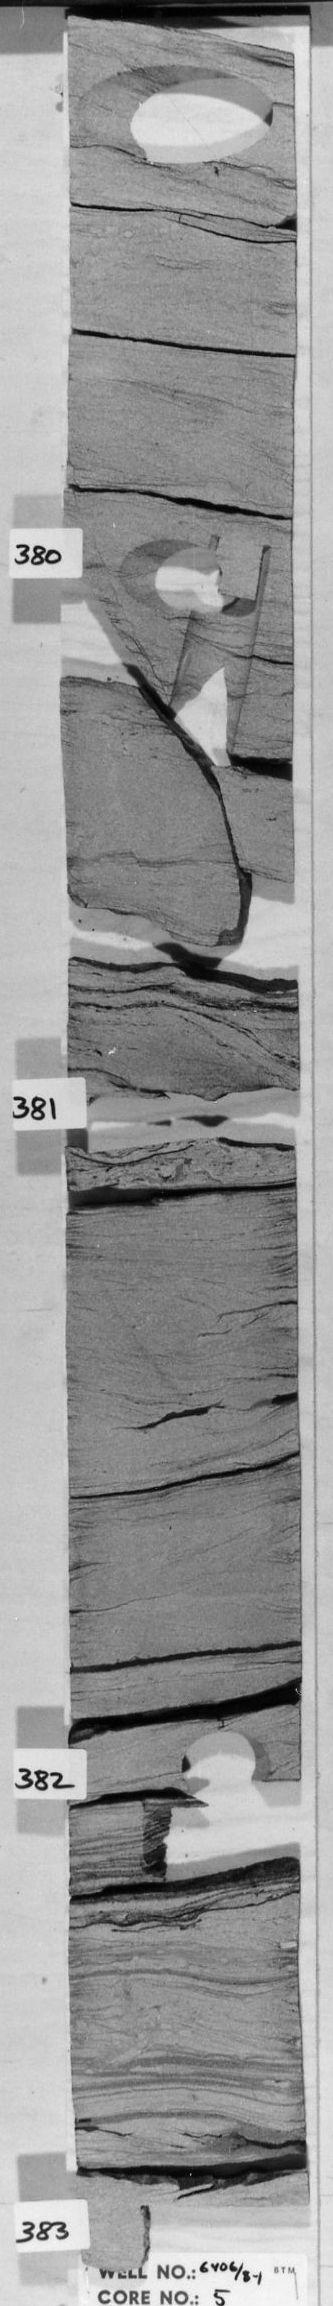hplug: (112, 535, 225, 610), (178, 1728, 276, 1784)
scal: (74, 62, 283, 169)
vplug: (174, 535, 270, 754), (144, 1791, 214, 1899)
